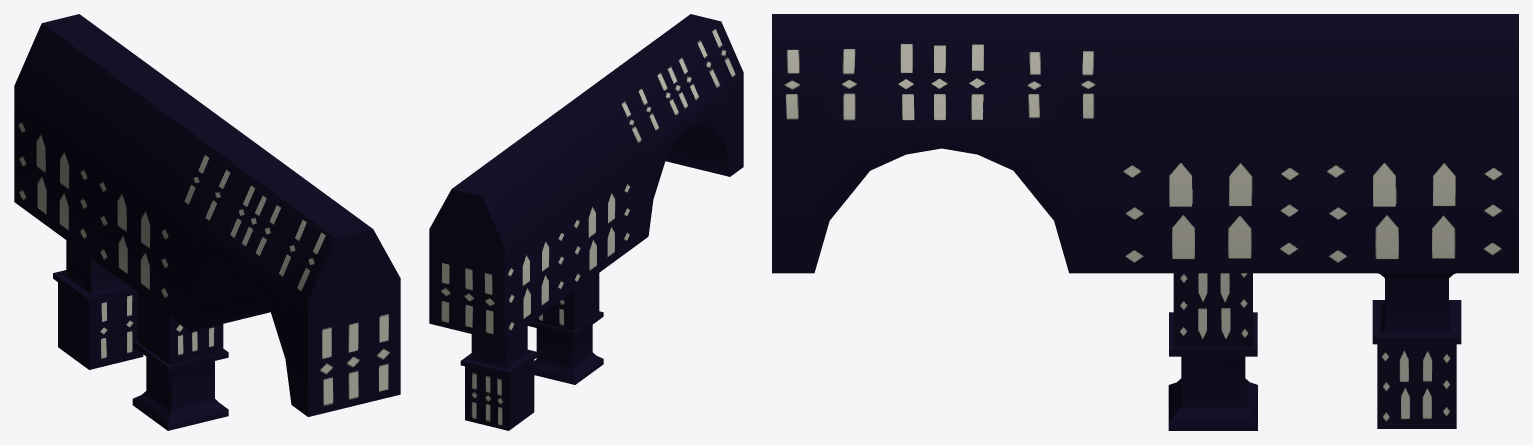
File: house.obj
3 views of the same model, side by side, from view 1: azimuth 30°, elevation 25°; view 2: azimuth 150°, elevation 25°; view 3: azimuth 270°, elevation 25° (orthographic). The views are drawn at different scales.
Visible parts, largest first — view 1: House_Mesh House_grp; view 2: House_Mesh House_grp; view 3: House_Mesh House_grp.
Boxes of the visible parts, bbox=[...] form: House_Mesh House_grp: bbox=[14, 14, 400, 430]; House_Mesh House_grp: bbox=[429, 14, 743, 430]; House_Mesh House_grp: bbox=[772, 14, 1518, 430].
Bounding box in the file's own units: 100 × 314 × 550.
Materials: 1 (1 with a texture image).
